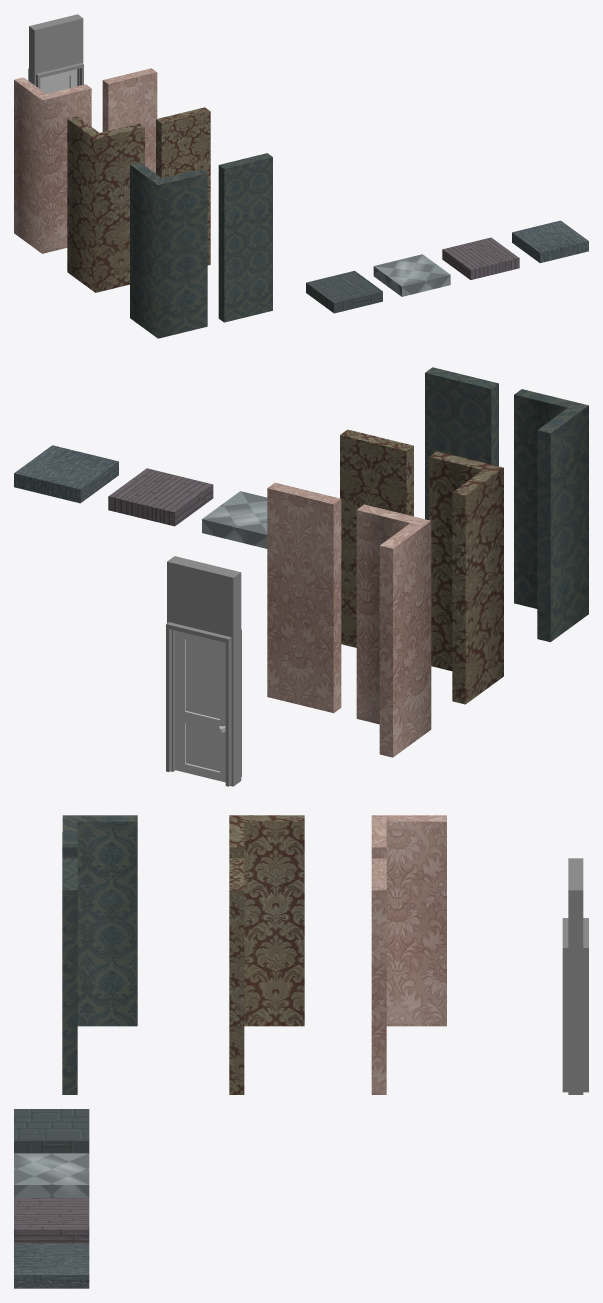
Rendered from Murs_Sols_Textures.FBX.
The picture shows the model from 3 angles, top to bottom: view 1: azimuth 30°, elevation 25°; view 2: azimuth 150°, elevation 25°; view 3: azimuth 270°, elevation 25°; orthographic projection. The views are drawn at different scales.
Parts seen in each view (by area): view 1: Mur_01_Angle, Mur_02_Angle, Mur_03_Angle, Mur_01_Plat, Mur_02_Plat, Mur_03_Plat, Mur_04_Plat_Porte, Dalle_Lino, Dalle_Bois, Dalle_Pierre, Dalle_Moquette, Box001; view 2: Mur_03_Angle, Mur_01_Angle, Mur_02_Angle, Mur_03_Plat, Mur_04_Plat_Porte, Mur_02_Plat, Box001, Mur_01_Plat, Dalle_Bois, Dalle_Moquette, Dalle_Lino; view 3: Mur_02_Angle, Mur_01_Angle, Mur_03_Angle, Mur_04_Plat_Porte, Mur_01_Plat, Mur_02_Plat, Mur_03_Plat, Dalle_Moquette, Dalle_Bois, Dalle_Lino, Dalle_Pierre.
Part boxes in pixels (x1,y1,x2,y2): Mur_01_Angle: (130, 162, 207, 338); Mur_02_Angle: (67, 116, 144, 292); Mur_03_Angle: (14, 77, 91, 253); Mur_01_Plat: (218, 153, 272, 322); Mur_02_Plat: (156, 107, 210, 265); Mur_03_Plat: (102, 68, 157, 173); Mur_04_Plat_Porte: (28, 14, 83, 88); Dalle_Lino: (373, 254, 450, 296); Dalle_Bois: (442, 237, 519, 279); Dalle_Pierre: (306, 270, 382, 313); Dalle_Moquette: (512, 220, 588, 263); Box001: (40, 69, 77, 93); Mur_03_Angle: (356, 504, 431, 757); Mur_01_Angle: (514, 389, 588, 642); Mur_02_Angle: (429, 451, 503, 704); Mur_03_Plat: (267, 482, 341, 713); Mur_04_Plat_Porte: (166, 556, 241, 786); Mur_02_Plat: (340, 429, 413, 647); Box001: (175, 630, 225, 782); Mur_01_Plat: (425, 367, 498, 519); Dalle_Bois: (108, 468, 213, 526); Dalle_Moquette: (14, 445, 118, 503); Dalle_Lino: (202, 491, 267, 548); Mur_02_Angle: (229, 815, 304, 1026); Mur_01_Angle: (62, 815, 137, 1026); Mur_03_Angle: (371, 815, 446, 1026); Mur_04_Plat_Porte: (562, 858, 588, 1094); Mur_01_Plat: (62, 858, 77, 1094); Mur_02_Plat: (229, 858, 244, 1094); Mur_03_Plat: (371, 858, 386, 1094); Dalle_Moquette: (14, 1243, 89, 1288); Dalle_Bois: (14, 1198, 89, 1243); Dalle_Lino: (14, 1153, 89, 1197); Dalle_Pierre: (14, 1109, 89, 1153).
Bounding box in the file's own units: 844 × 300 × 764.
